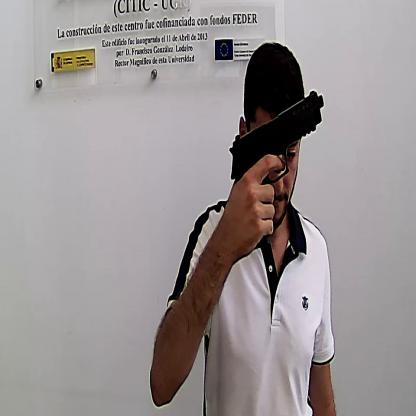gun: (230, 87, 324, 188)
